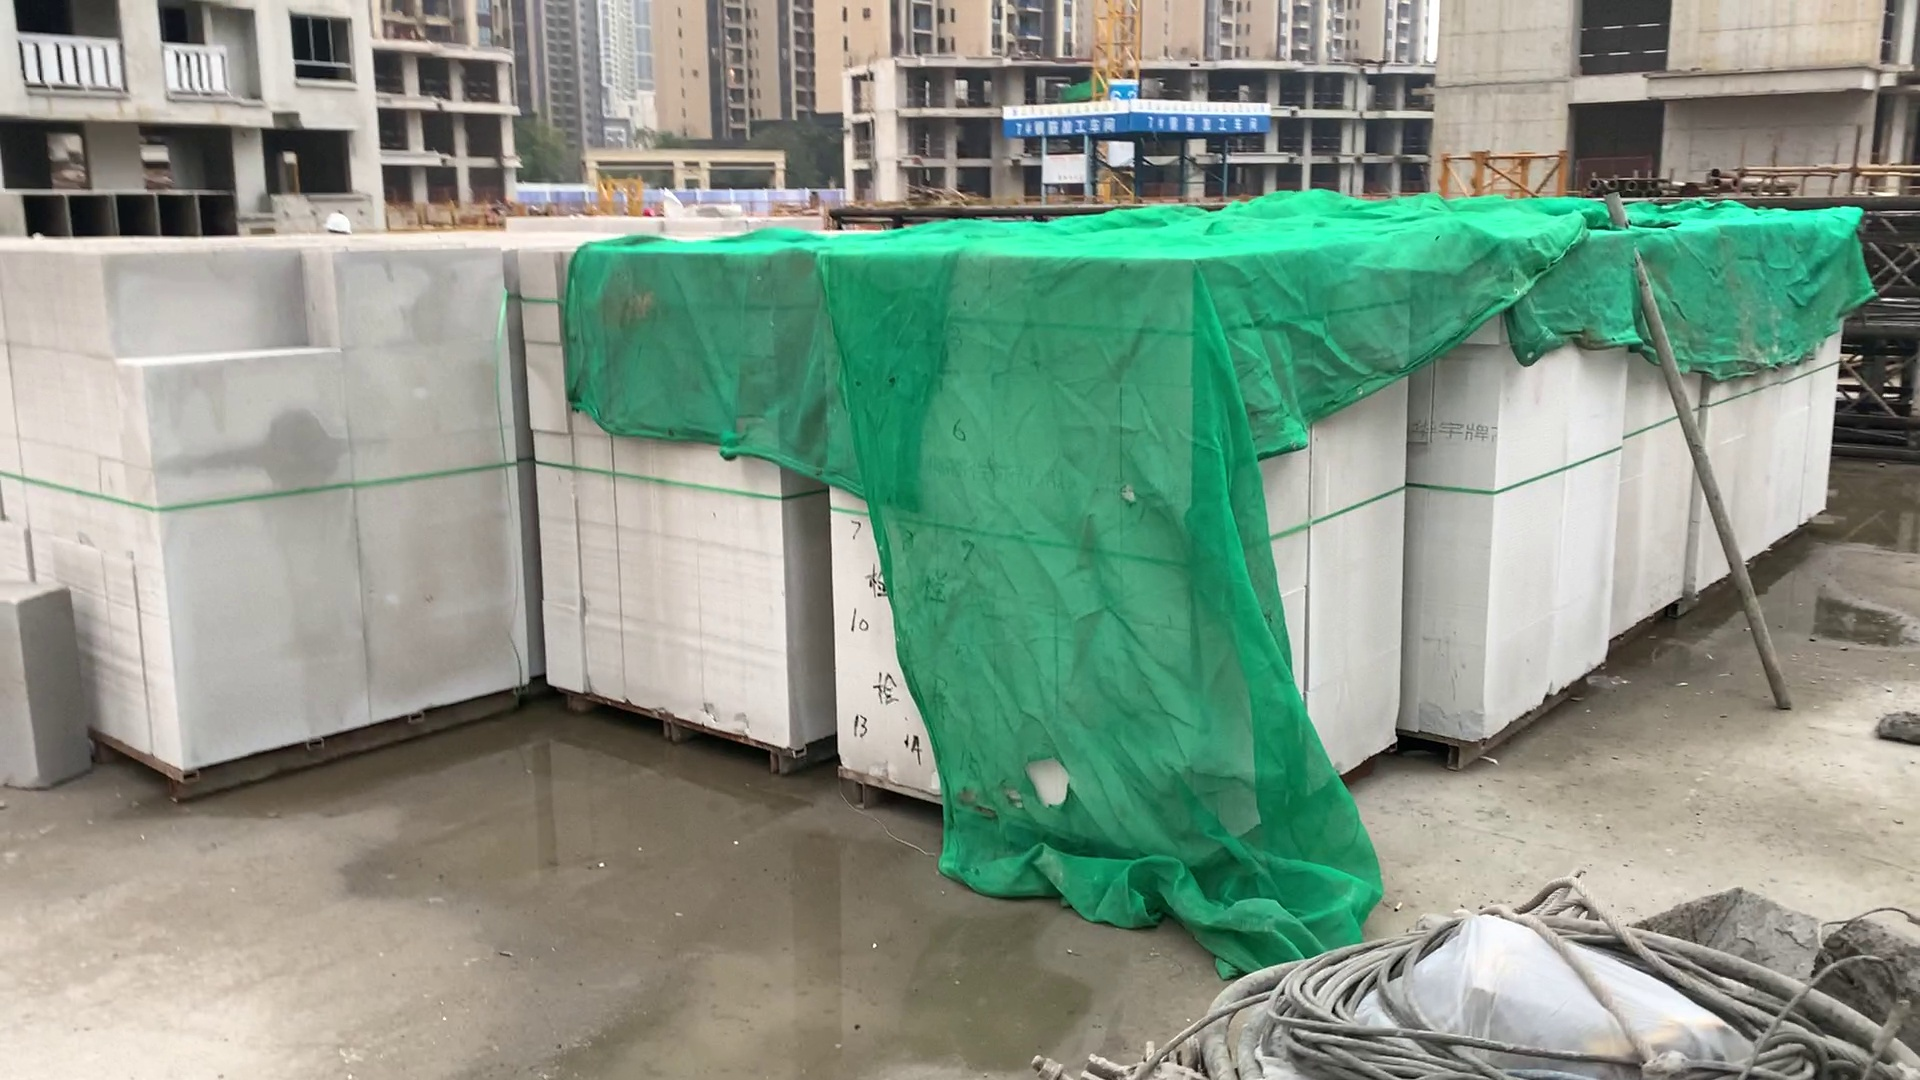brickwork: (4, 245, 531, 758), (822, 249, 1207, 837), (524, 251, 819, 764), (1404, 247, 1509, 753), (1695, 229, 1834, 579), (1629, 241, 1685, 632)
